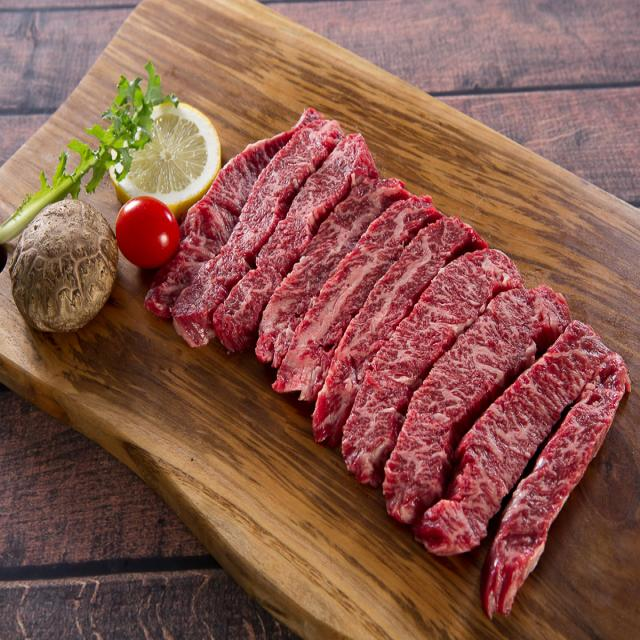beef: (245, 175, 391, 354)
